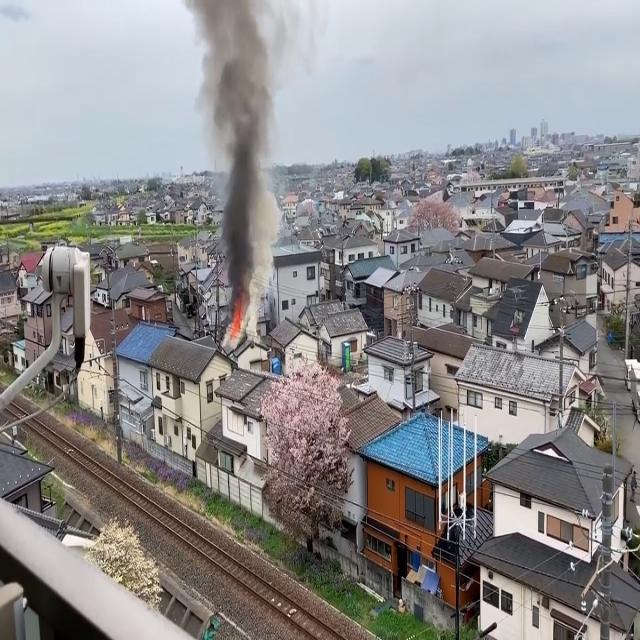Fire: (224, 299, 246, 346)
Smoke: (192, 1, 286, 316)
